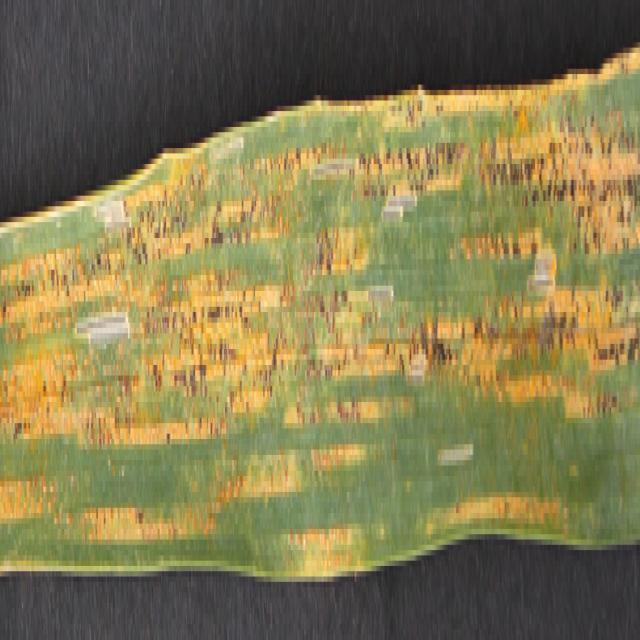leaf rust: (1, 58, 640, 603)
